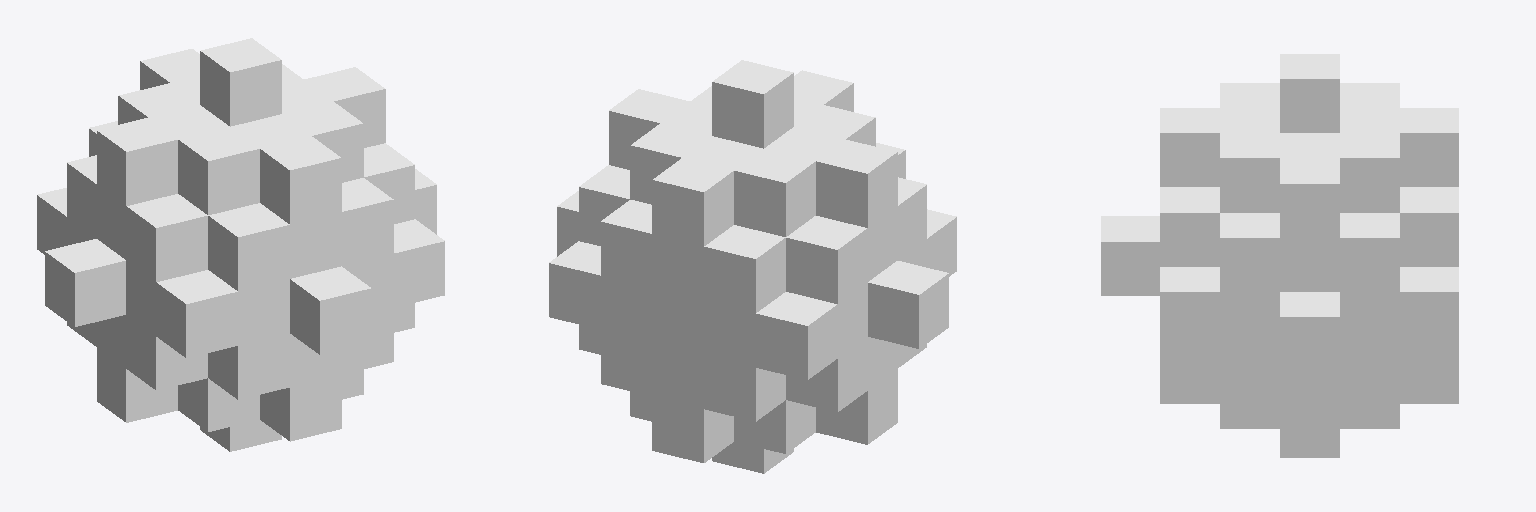
The model's file is TrunkEnd-3.obj.
The picture shows the model from 3 angles: view 1: azimuth 30°, elevation 25°; view 2: azimuth 150°, elevation 25°; view 3: azimuth 270°, elevation 25°; orthographic projection.
Parts seen in each view (by area): view 1: object 1; view 2: object 1; view 3: object 1.
Boxes of the visible parts, x1=… form: object 1: x1=37, y1=38, x2=444, y2=451; object 1: x1=549, y1=60, x2=956, y2=473; object 1: x1=1101, y1=54, x2=1458, y2=457.
Size of the model in its own units: 0.7 by 0.7 by 0.6.